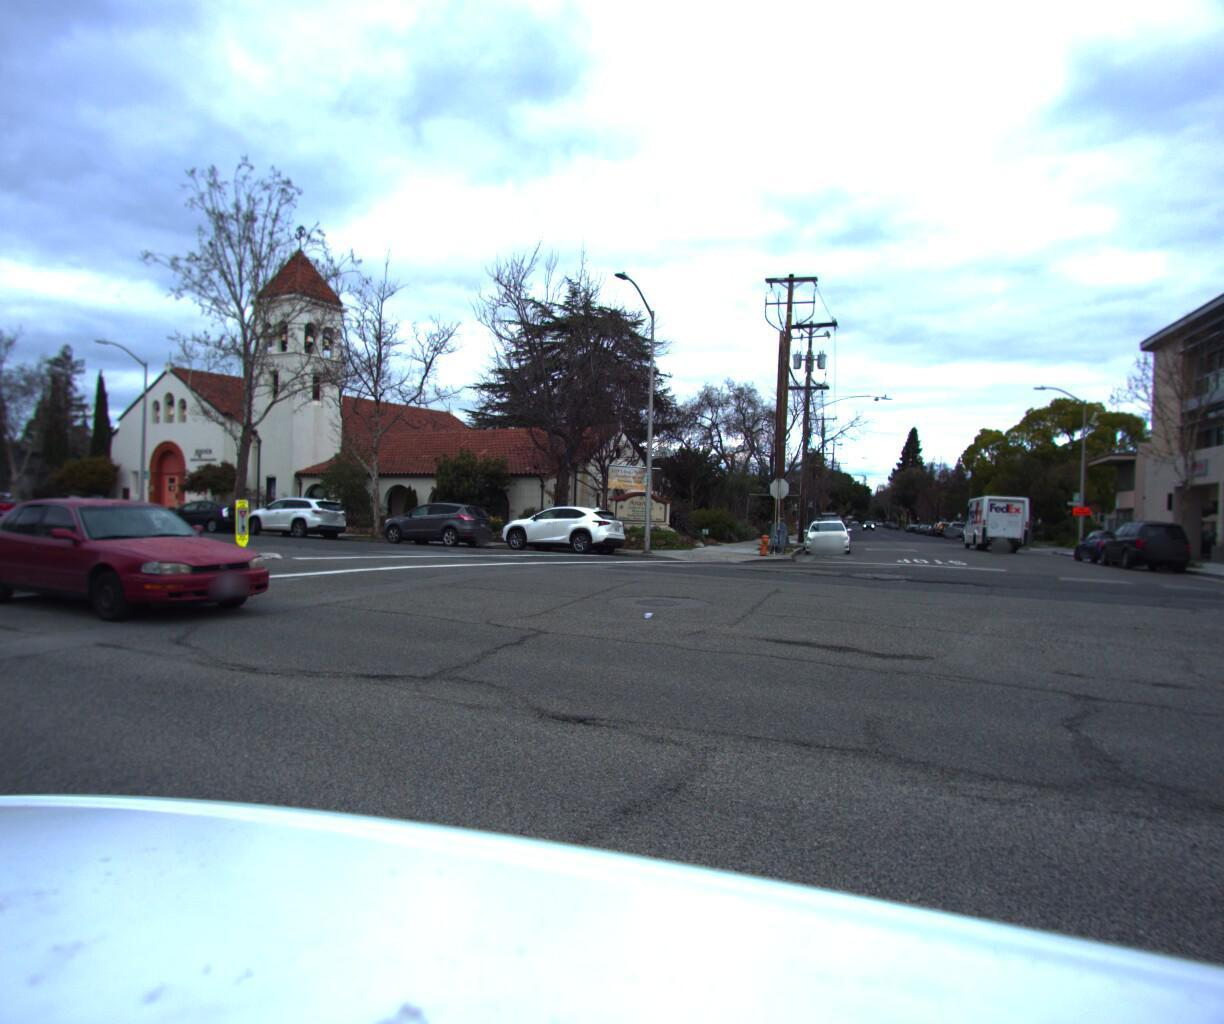car: (0, 492, 284, 637), (487, 500, 630, 553), (1092, 513, 1206, 570), (370, 497, 499, 548), (231, 490, 349, 538), (150, 495, 254, 532), (1067, 522, 1146, 562), (799, 511, 856, 552), (810, 504, 851, 543), (941, 514, 970, 534), (0, 488, 18, 519)
truck: (957, 487, 1037, 550)
